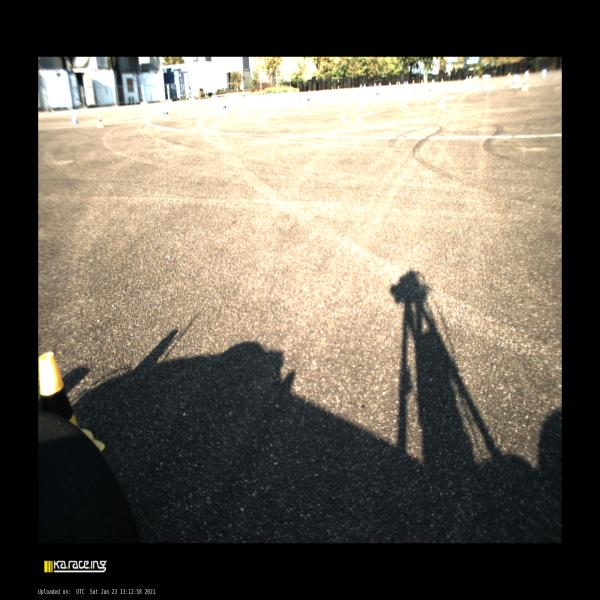blue_cone: (72, 114, 78, 124), (225, 100, 230, 107), (162, 107, 166, 115), (412, 85, 416, 93), (406, 80, 409, 85), (432, 79, 434, 84), (404, 81, 406, 84)
unknown_cone: (374, 82, 376, 87), (389, 81, 391, 86), (360, 84, 362, 88), (379, 82, 381, 86), (364, 84, 366, 87)
yellow_cone: (39, 350, 104, 450), (97, 115, 104, 127), (164, 110, 170, 120), (223, 103, 227, 113), (307, 96, 311, 105), (412, 79, 415, 84), (398, 81, 401, 85), (421, 79, 423, 84), (441, 77, 443, 82), (396, 81, 398, 85)
